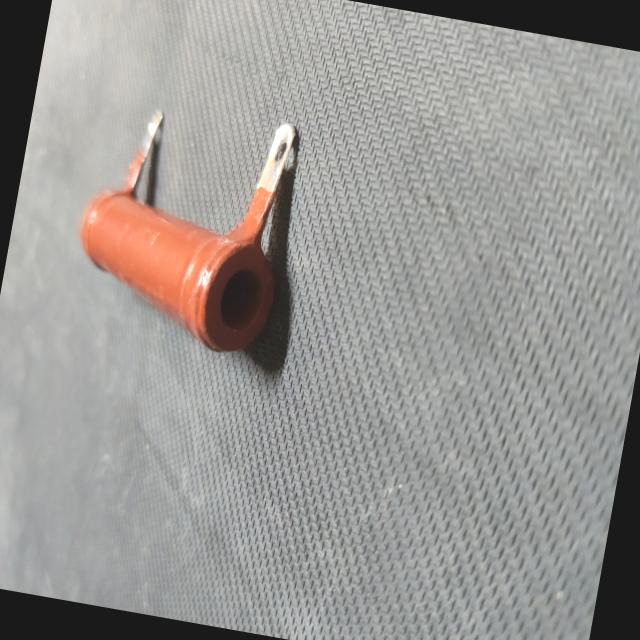resistor: (54, 80, 316, 373)
